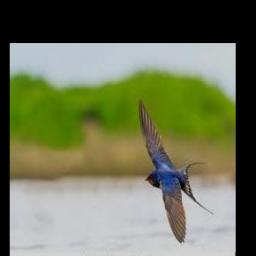Swallow: (139, 97, 215, 243)
